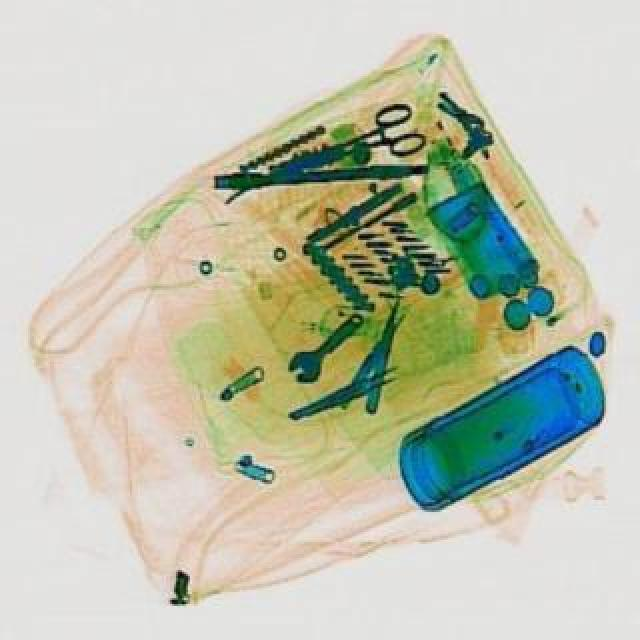pliers: (274, 104, 434, 198)
scissors: (284, 312, 376, 394)
